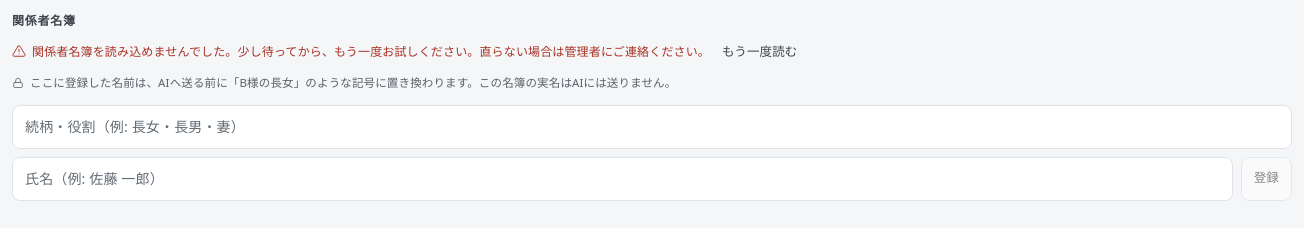
Scenario: 読めなかったとき（空の名簿に見せない） › 「もう一度読む」で読み直し、読めたら知らせが消えて名簿が出る
What coordinates should you click on to do the following:
click the button "もう一度読む"
I would click on:
 (760, 52)
Its box is [722, 38, 798, 66].
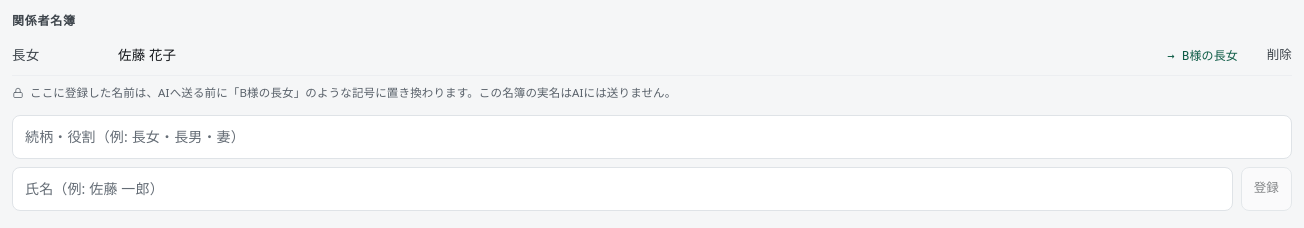
Expected: the message "関係者名簿を読み込めませんでした。少し待ってから、もう一度お試しください。直らない場合は管理者にご連絡ください。 もう一度読む" is gone
